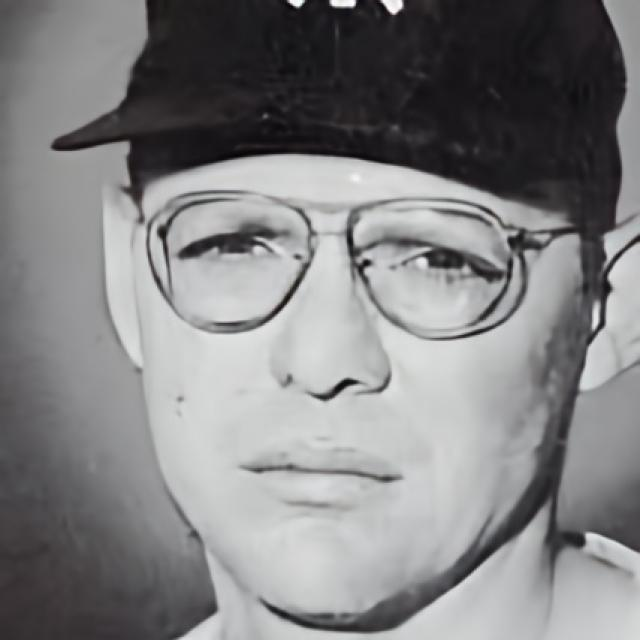neutral: (136, 155, 588, 627)
